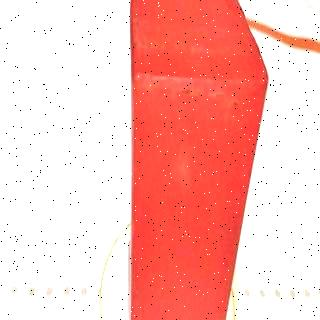redbox: (130, 0, 268, 320)
